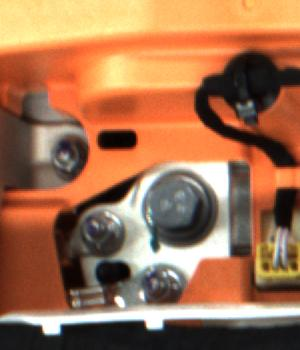nut_b: (140, 169, 225, 251)
screw_s: (37, 138, 86, 182), (147, 263, 183, 306), (84, 206, 118, 251)
